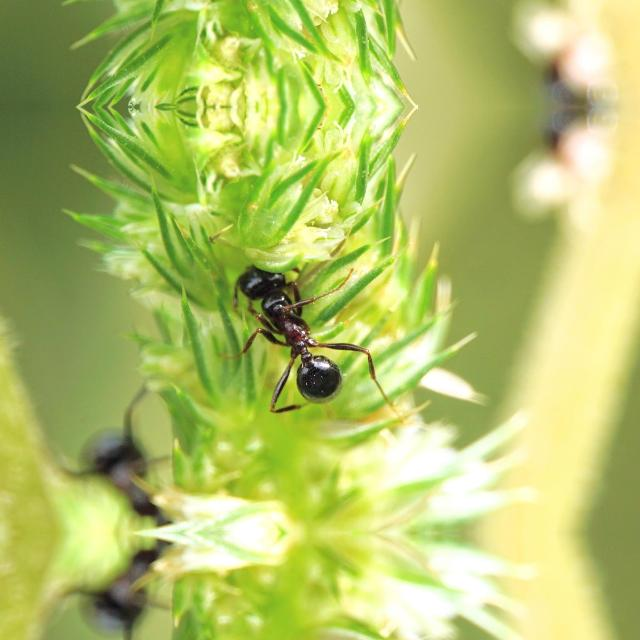Messor: (221, 264, 371, 416), (68, 412, 182, 504), (68, 560, 181, 640)
